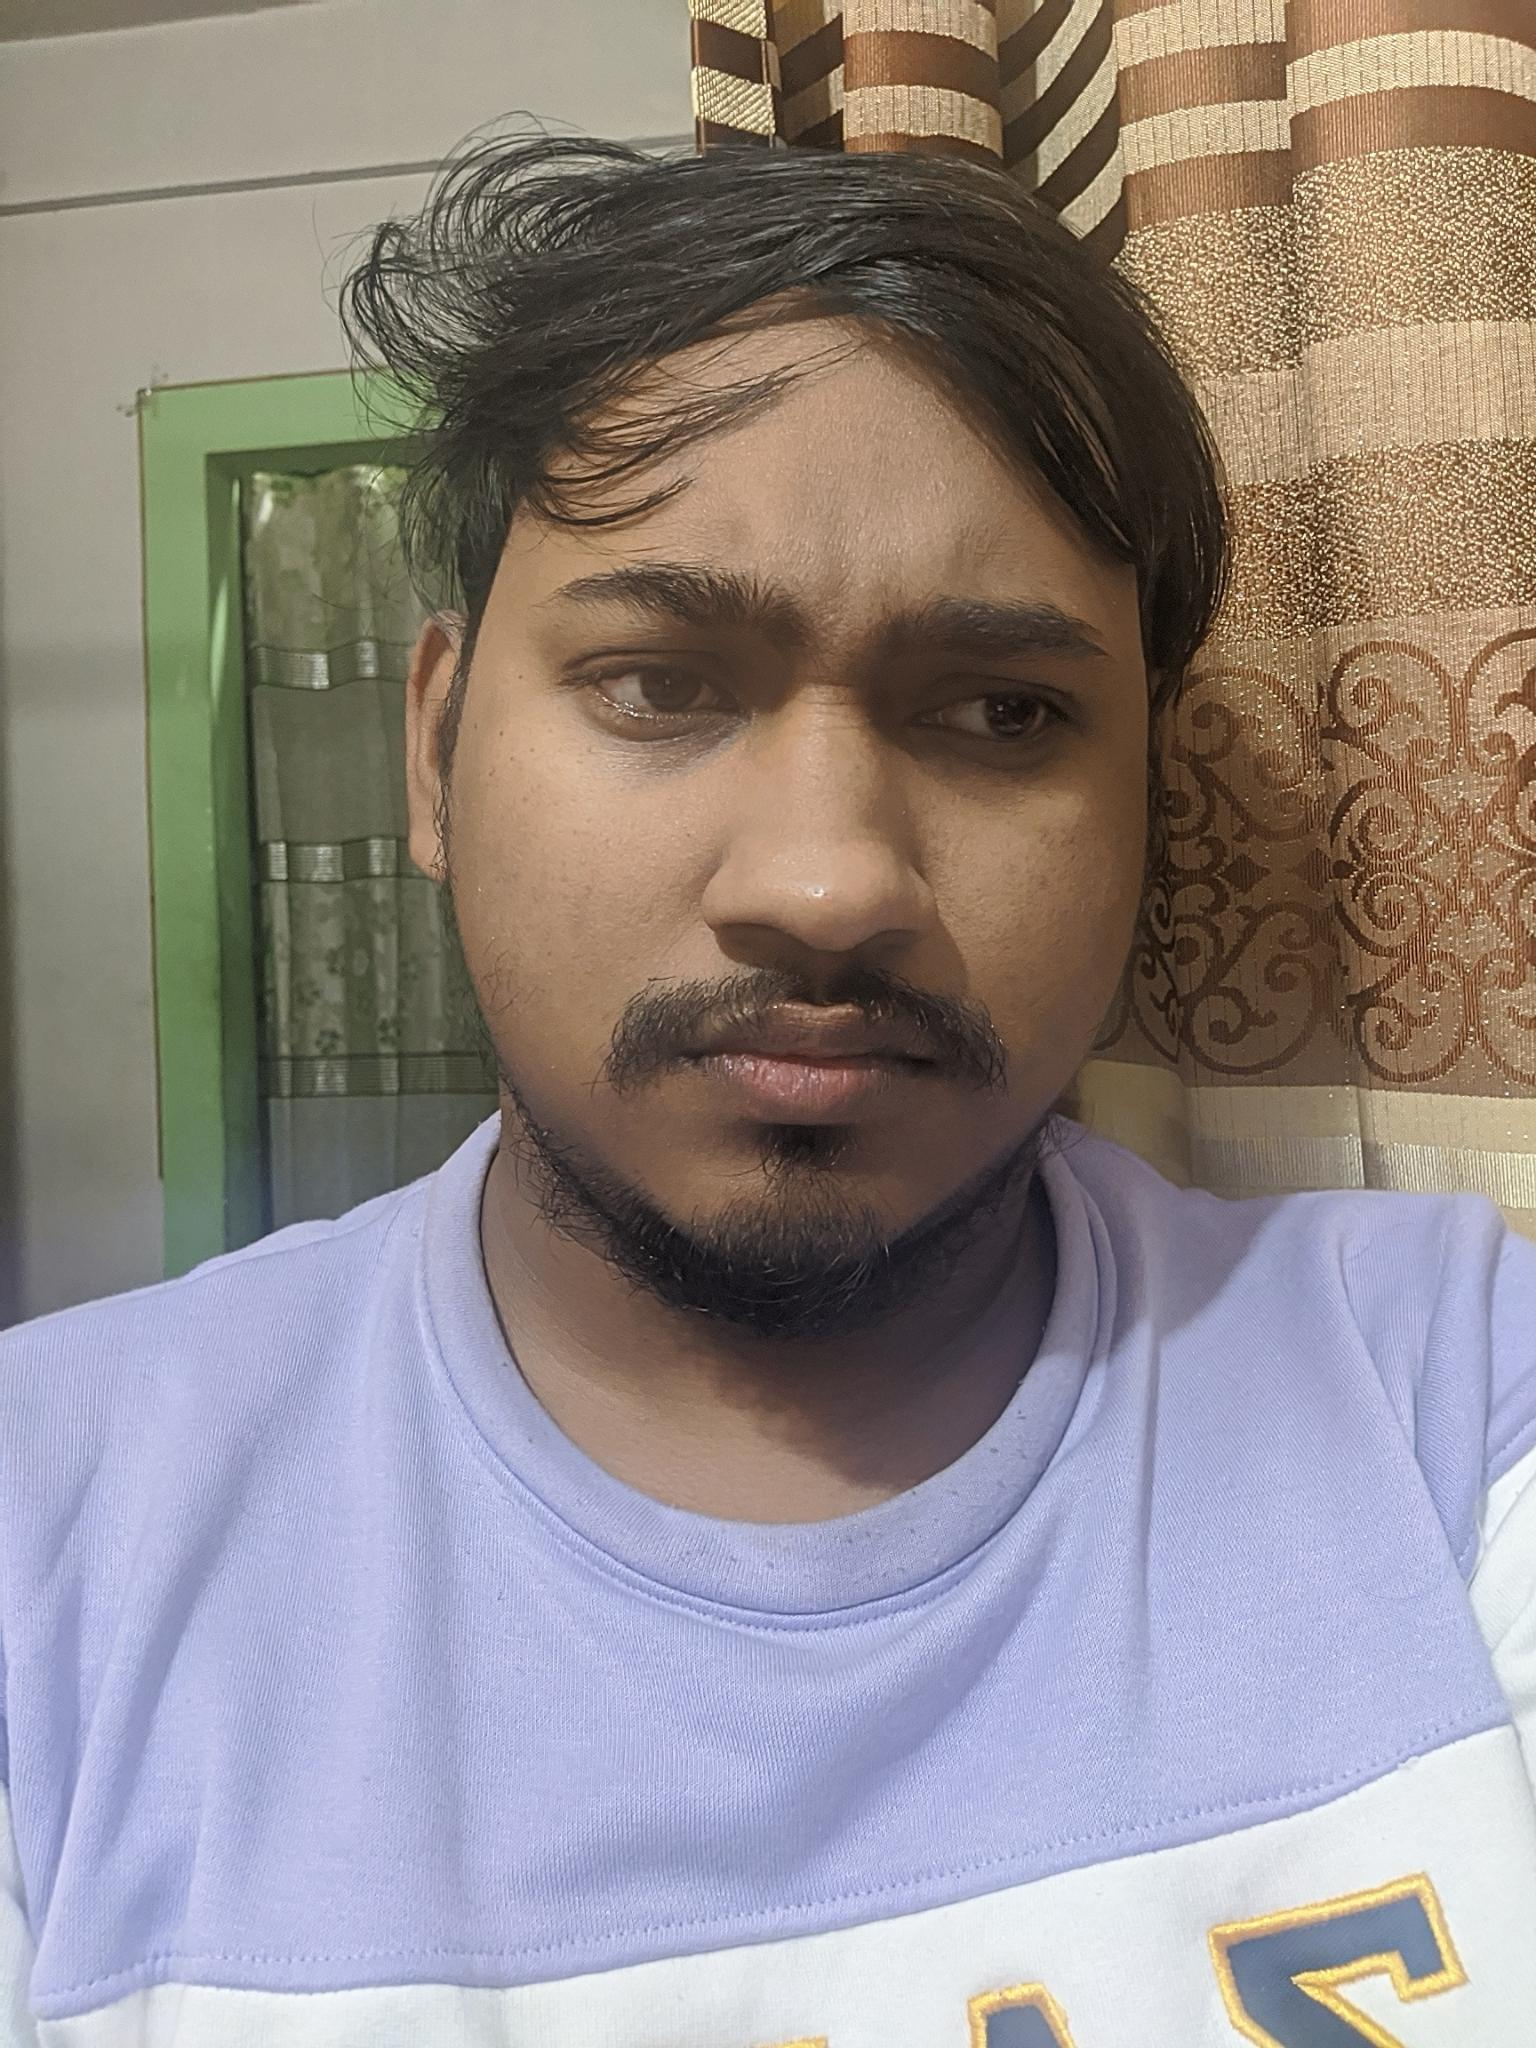Angry: (450, 437, 1176, 1248)
